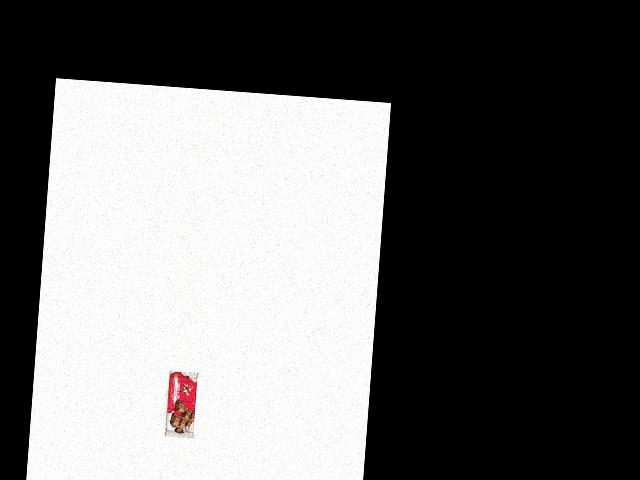chocolate: (159, 368, 200, 440)
